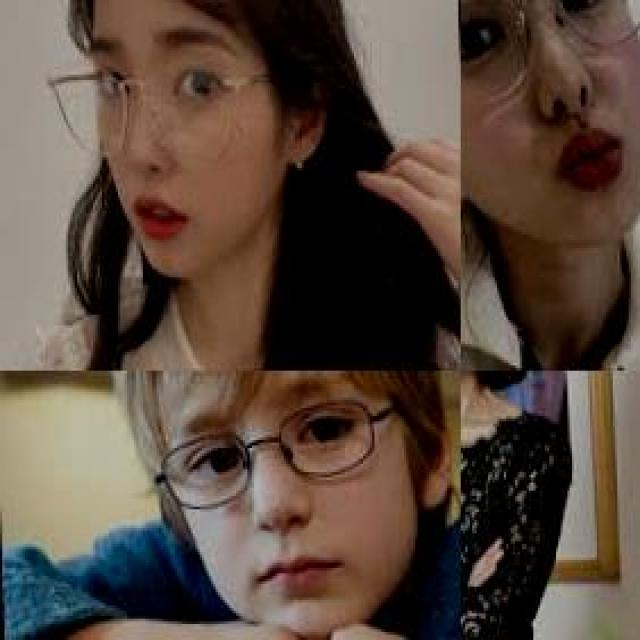Glasses: (134, 370, 406, 522), (41, 45, 288, 179), (460, 0, 637, 125)
